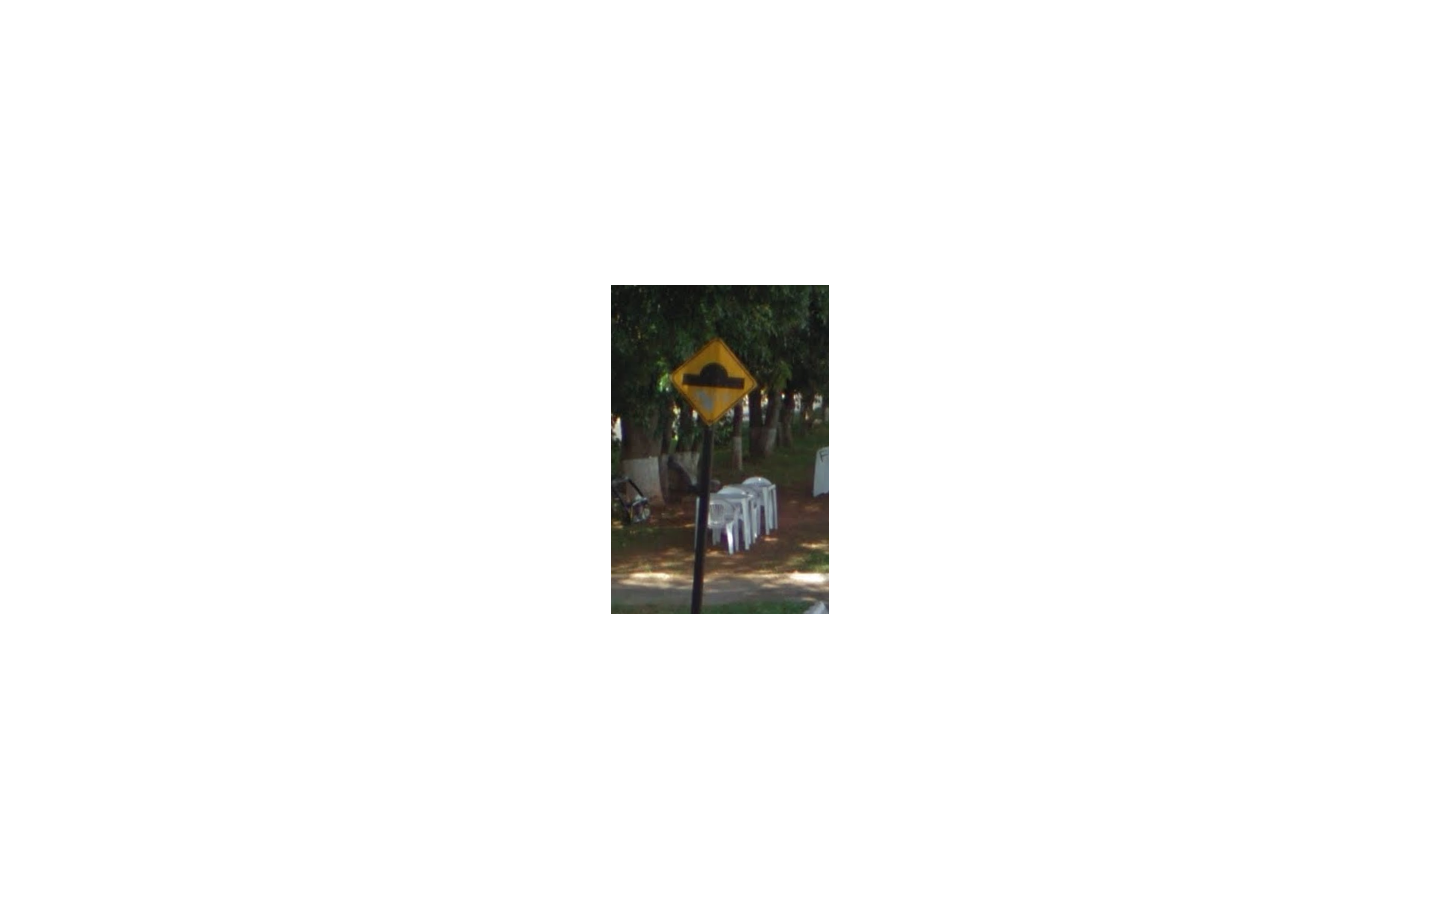lomb: (670, 337, 758, 425)
